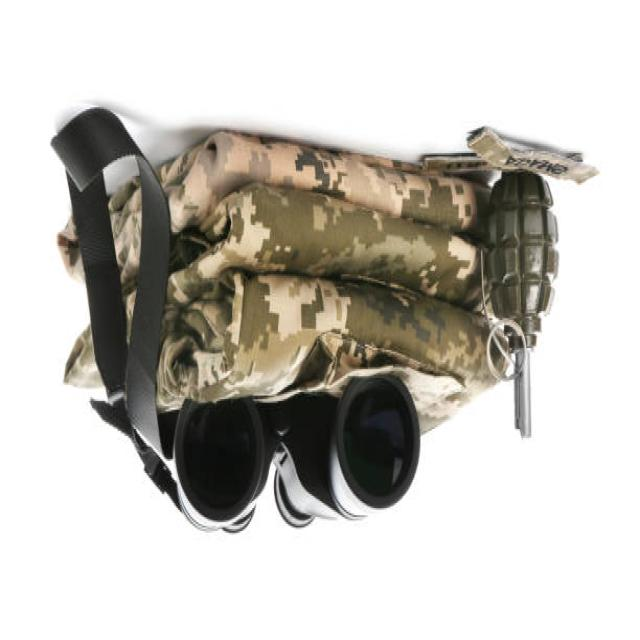grenade: (484, 172, 564, 443)
